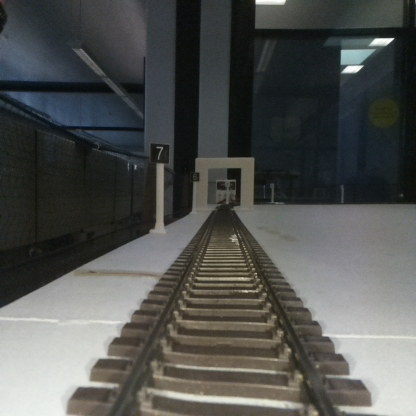black-info-6: (190, 171, 199, 212)
black-info-7: (150, 143, 168, 230)
